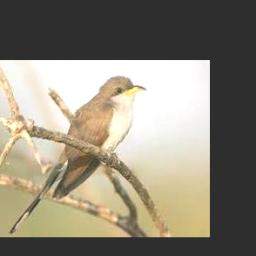Cuckoo: (10, 75, 146, 234)
